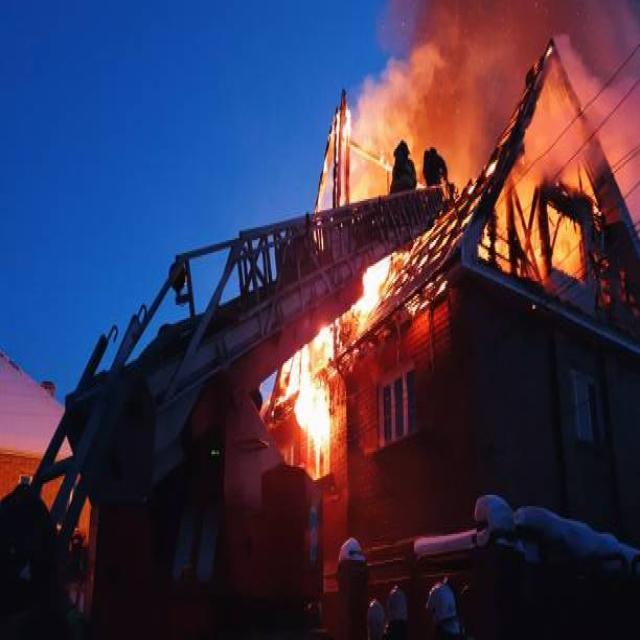Fire: (504, 138, 600, 296), (288, 355, 344, 468), (360, 242, 399, 320)
Smoke: (398, 0, 630, 141), (354, 64, 404, 144)
